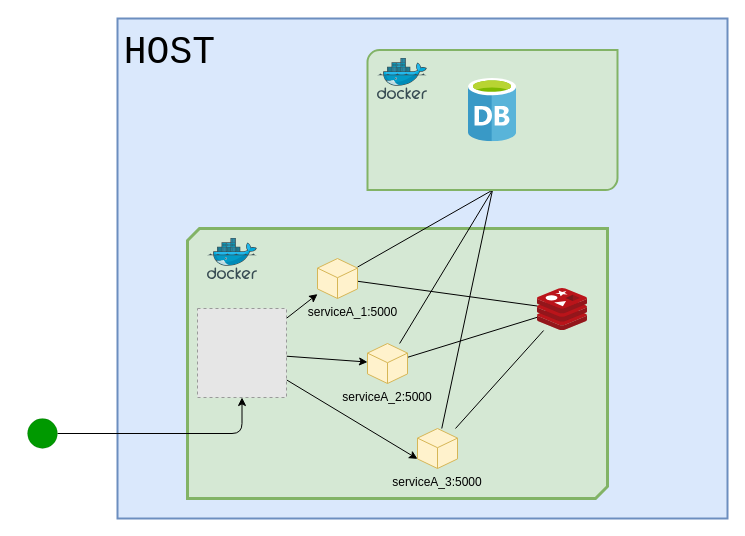
The diagram is 745 pixels wide and 536 high, and some of its shapes have lost their labels. Grey dashed boxes stand in for pictures. The centre of each missing label's shape, as x and y in pixels:
Redis: pixel 562 309
REQUEST: pixel 42 433
